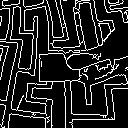cube: (36, 51, 83, 86)
